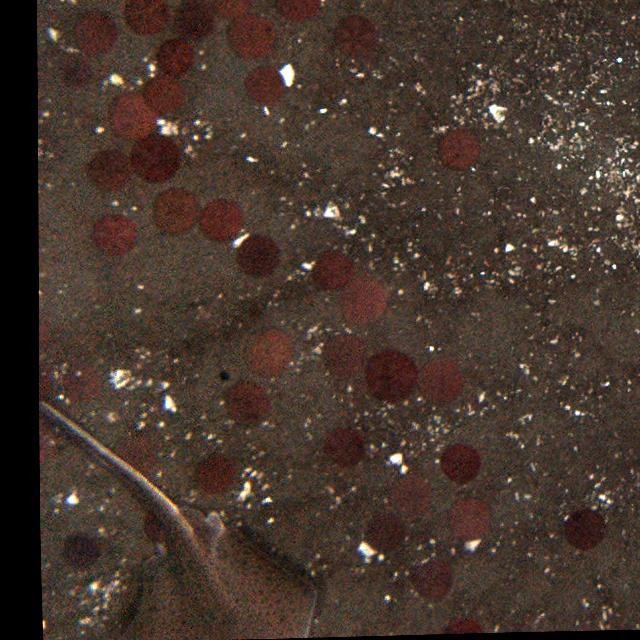skate: (38, 392, 325, 638)
